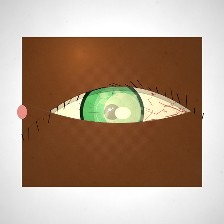corneal_ulcer: (92, 87, 153, 136)
